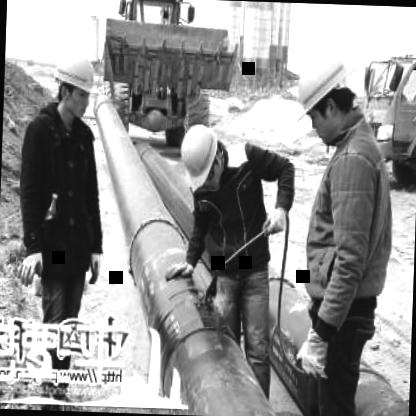helmet: (288, 43, 358, 148), (50, 42, 98, 124), (176, 117, 226, 187)
